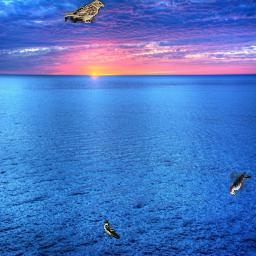Sparrow: (65, 0, 105, 23)
Swallow: (104, 220, 120, 239)
Woodpecker: (230, 172, 251, 196)
